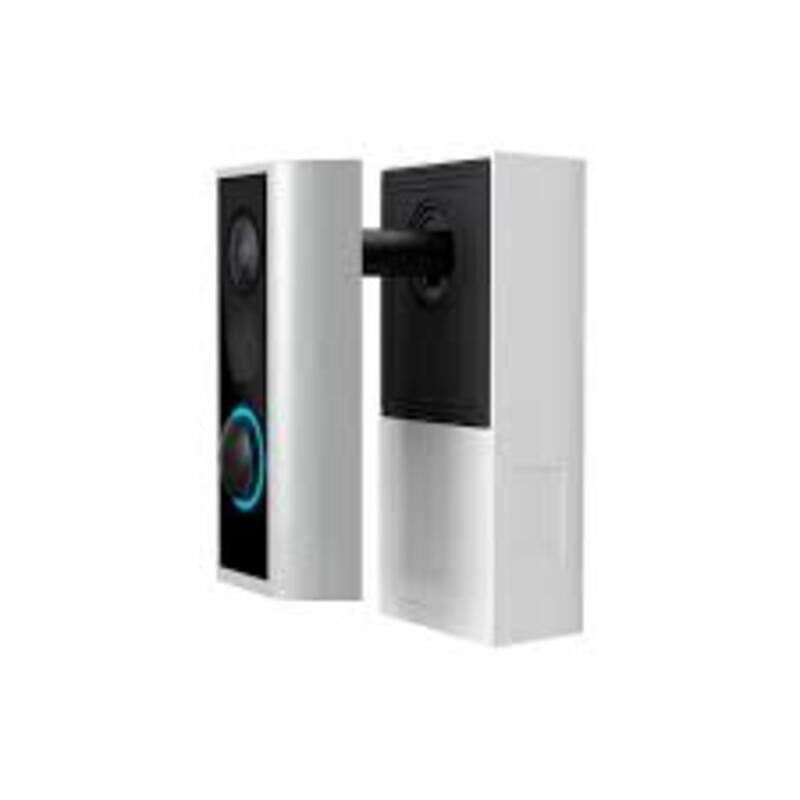doorbell: (199, 147, 388, 599)
